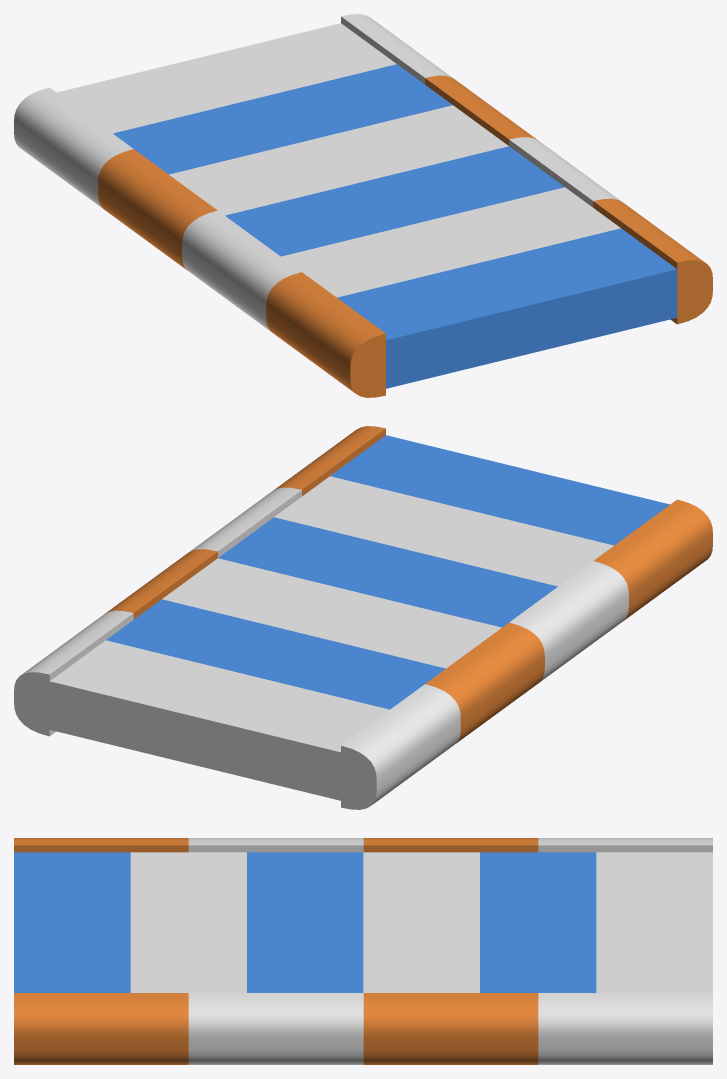
Rendered from looprunplatform.fbx.
3 renders of one model, top to bottom at view 1: azimuth 30°, elevation 25°; view 2: azimuth 150°, elevation 25°; view 3: azimuth 270°, elevation 25°, orthographic. The views are drawn at different scales.
Parts seen in each view (by area): view 1: sagplatform, solplatform, solkenarlik, sagkenarlik; view 2: sagplatform, solplatform, solkenarlik, sagkenarlik; view 3: solplatform, sagkenarlik, sagplatform, solkenarlik.
Boxes of the visible parts, x1=… form: sagplatform: x1=196, y1=23, x2=677, y2=352; solplatform: x1=57, y1=58, x2=531, y2=388; solkenarlik: x1=14, y1=87, x2=385, y2=397; sagkenarlik: x1=341, y1=14, x2=712, y2=324; sagplatform: x1=49, y1=435, x2=530, y2=764; solplatform: x1=195, y1=470, x2=669, y2=800; solkenarlik: x1=341, y1=499, x2=712, y2=809; sagkenarlik: x1=14, y1=426, x2=385, y2=736; solplatform: x1=14, y1=852, x2=712, y2=926; sagkenarlik: x1=14, y1=993, x2=712, y2=1064; sagplatform: x1=14, y1=926, x2=712, y2=992; solkenarlik: x1=14, y1=838, x2=712, y2=852.
Size of the model in its own units: 249 by 40.68 by 400.
